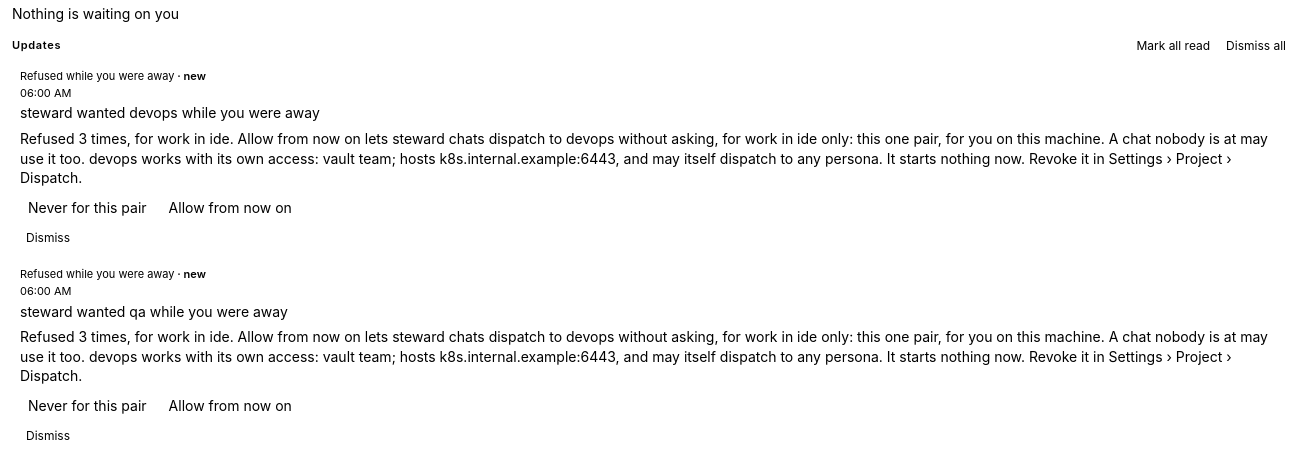
Test: the list, read from the core and answered through it › Allow from now on sends the one pair and its workspace, says the core's sentence, and the item goes
Click the button named "Allow from now on: steward chats dispatch to devops, for you on this machine, for work in ide only" at x=230, y=208, box [161,194,300,222]
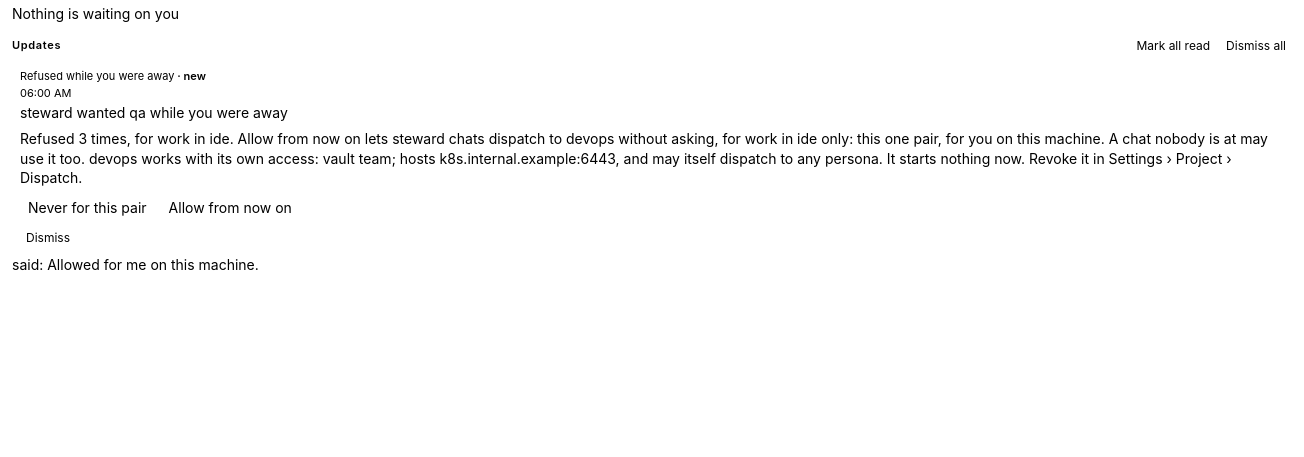
Now the text "said: Allowed for me on this machine." is shown, box [12,256,259,273]
